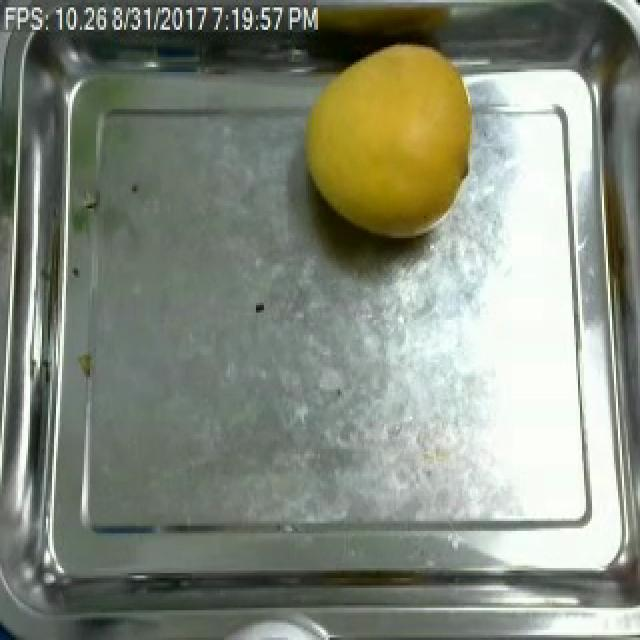fruit: (290, 35, 486, 253)
